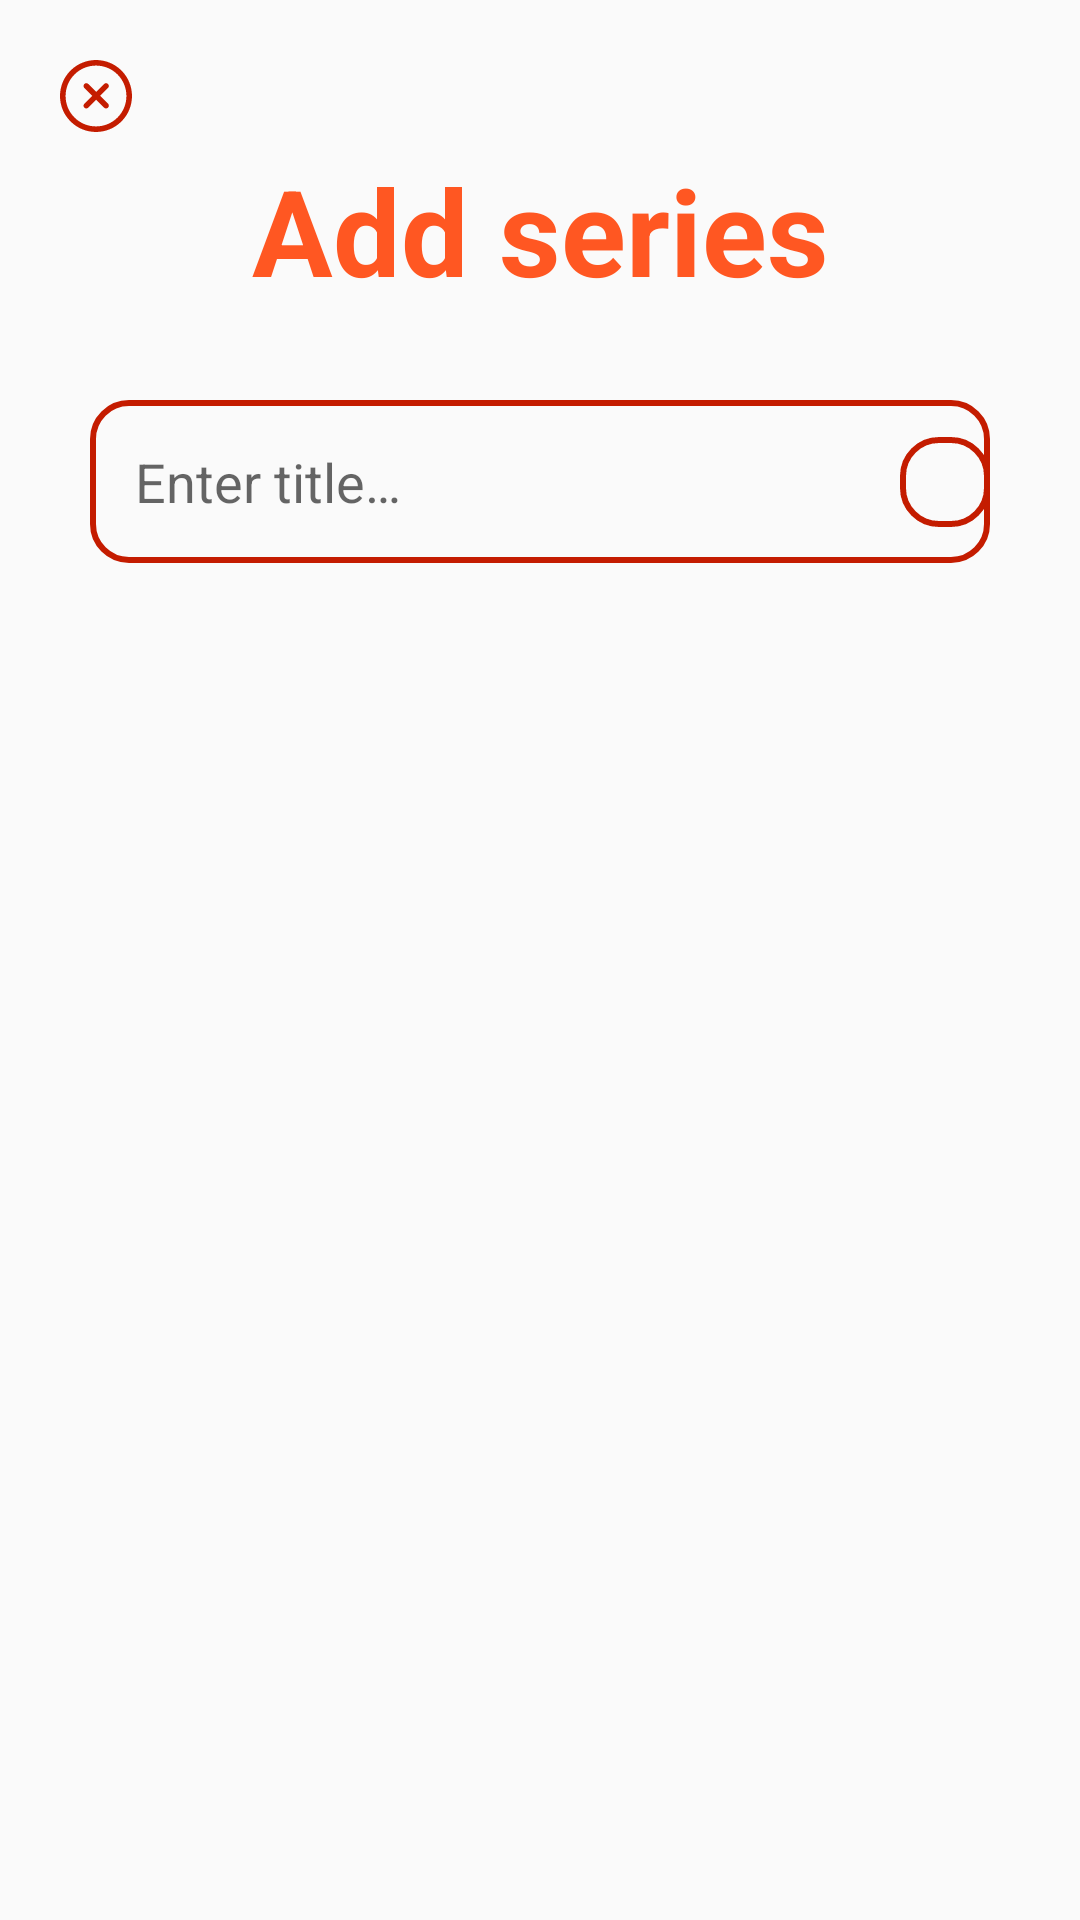

Icons on this 1080x1920 Android screen, each with its box as (x1, y1, x2, y2):
close: (60, 60, 132, 132)
